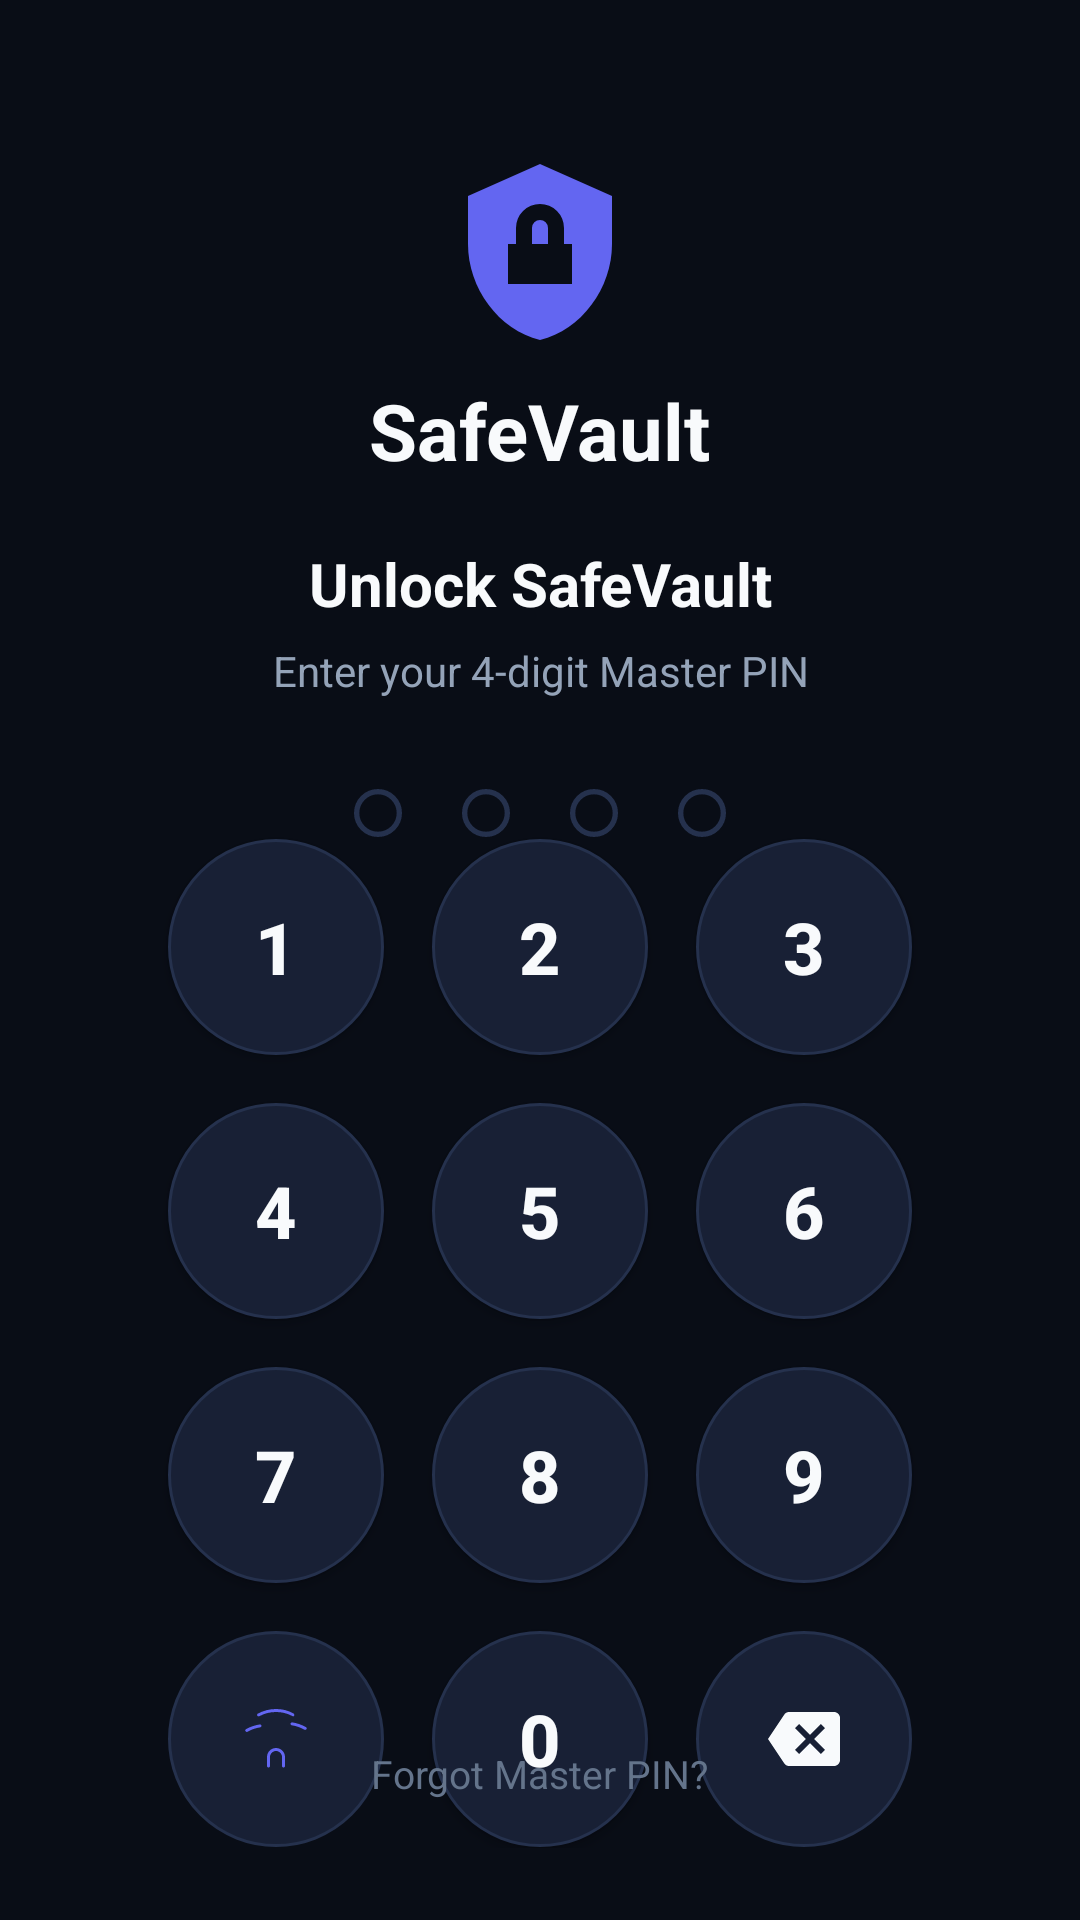

Locate icon controls on the screen. Image size 1080 x 1920, boxes as (x1, y1, x2, y2).
backspace: (696, 1631, 912, 1847)
fingerprint: (168, 1631, 384, 1847)
